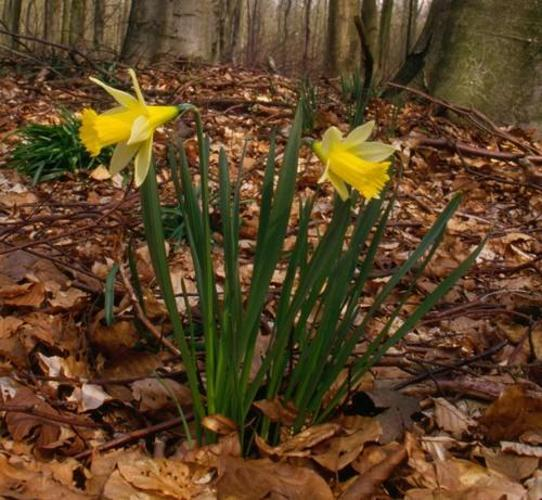flower1: (77, 67, 189, 188), (312, 120, 397, 202)
